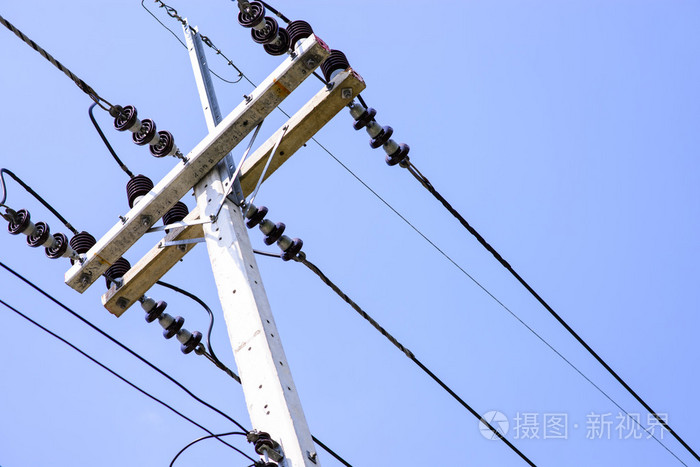insulator: (353, 105, 413, 167), (244, 207, 306, 261), (144, 299, 203, 354), (7, 209, 69, 261), (111, 107, 173, 158), (238, 2, 292, 59)
